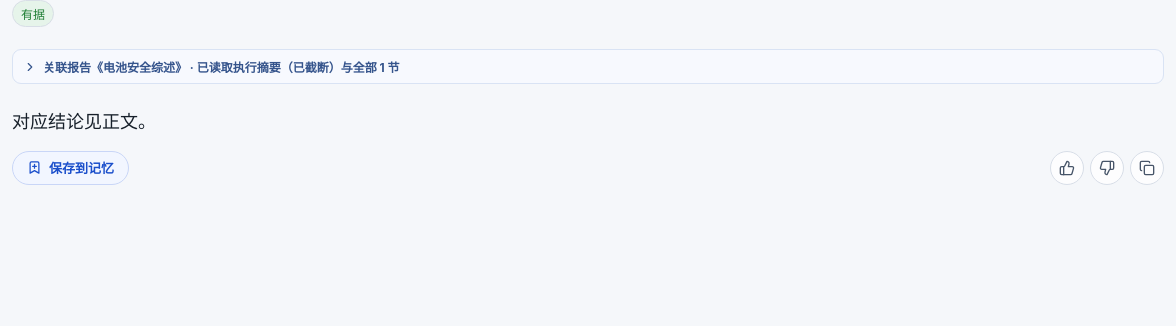
Test: 读入了全文：摘要写「已读取报告全文」，执行摘要截断时如实标出
The width and height of the screenshot is (1176, 326).
Expected: the text "关联报告《电池安全综述》 · 已读取报告全文；复原引用证据 3 条" is shown, [43,58,400,75]
Step 1. Click the heading "关联报告《电池安全综述》 · 已读取执行摘要（已截断）与全部 1 节" → (211, 67), box [23,60,400,75]
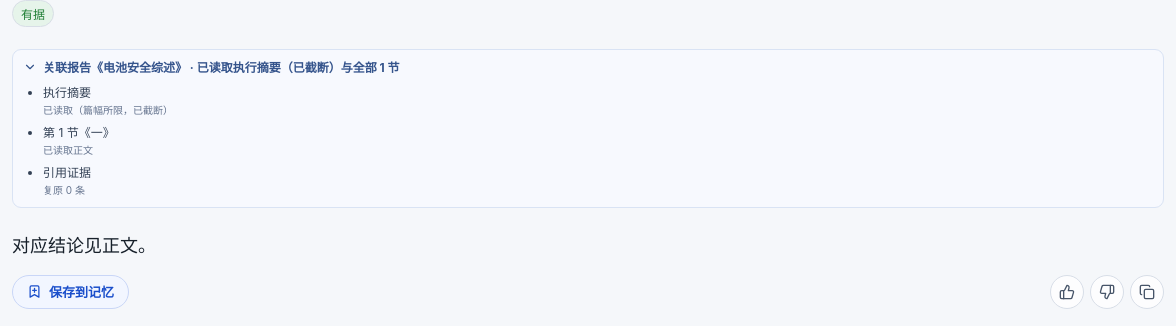
Expected: the text "已读取（篇幅所限，已截断）" is shown, [43,104,173,116]
Expected: the text "复原 0 条" is shown, [43,184,85,196]
